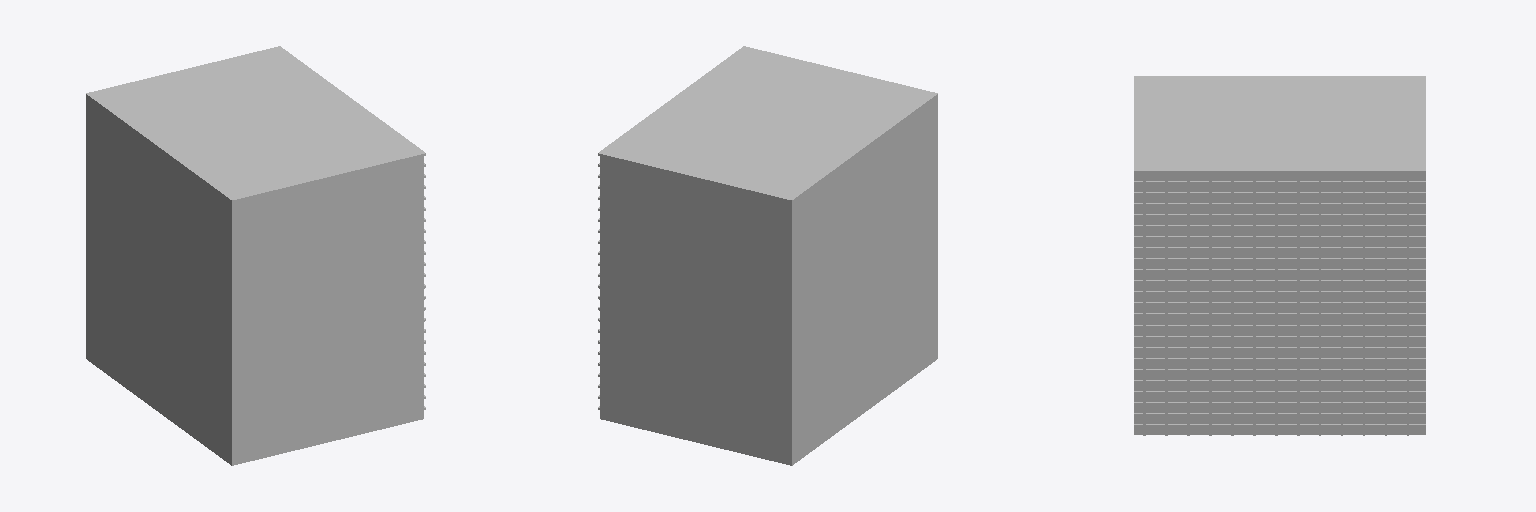
File: 3d fon 1.1-8.obj
The picture shows the model from 3 angles: view 1: azimuth 30°, elevation 25°; view 2: azimuth 150°, elevation 25°; view 3: azimuth 270°, elevation 25°; orthographic projection.
Visible parts, largest first — view 1: object 1; view 2: object 1; view 3: object 1.
Boxes of the visible parts, <box> form: object 1: <box>86,46,425,465</box>; object 1: <box>598,46,937,465</box>; object 1: <box>1134,76,1425,435</box>.
Size of the model in its own units: 9.2 by 12 by 12.